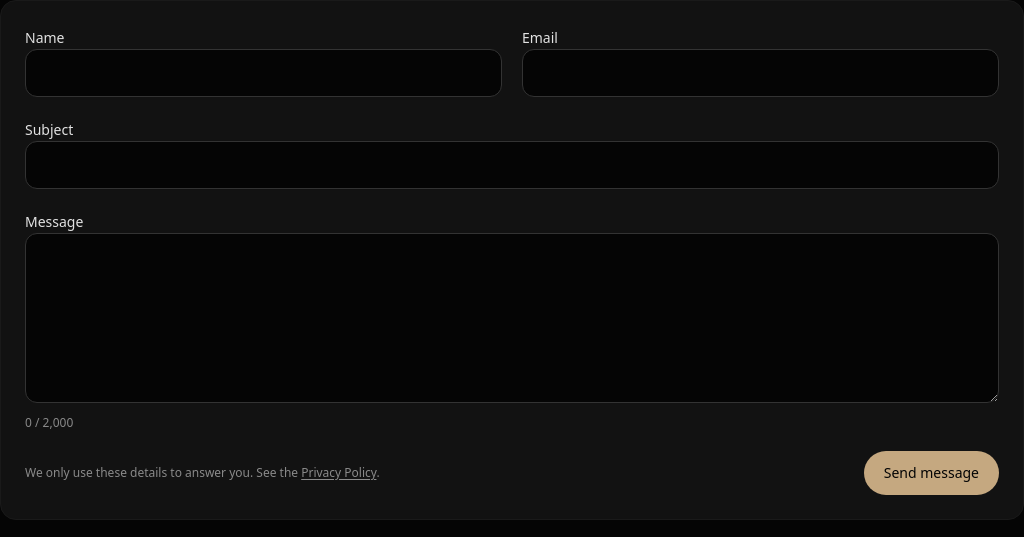
Test: ContactForm › sends a valid message and thanks the sender (CA03)
This screenshot has width=1024, height=537.
Type "Ana" into the field labelled "Name" at [264, 73], box 25,49 -> 502,97
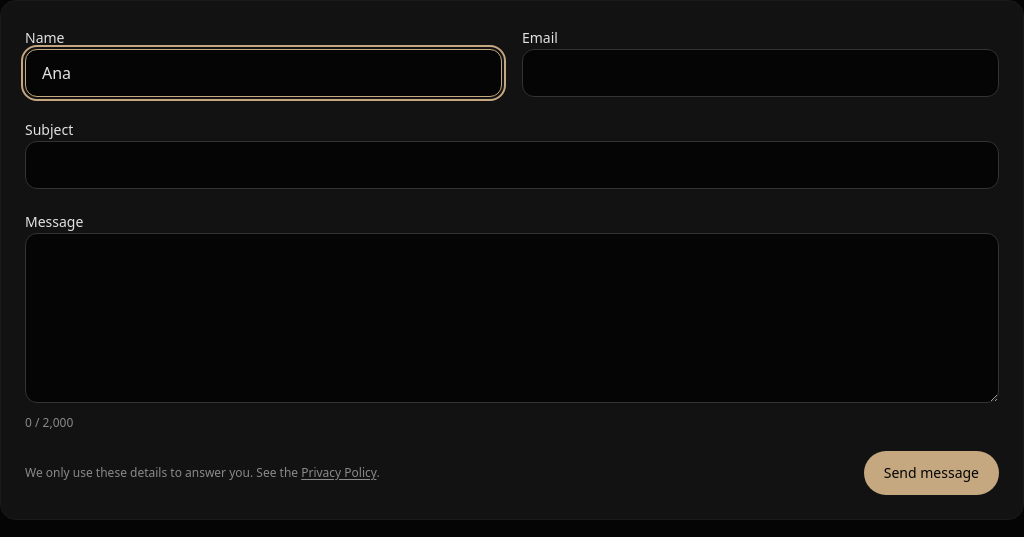
Type "ana@example.com" into the field labelled "Email" at [760, 73], box 522,49 -> 999,97
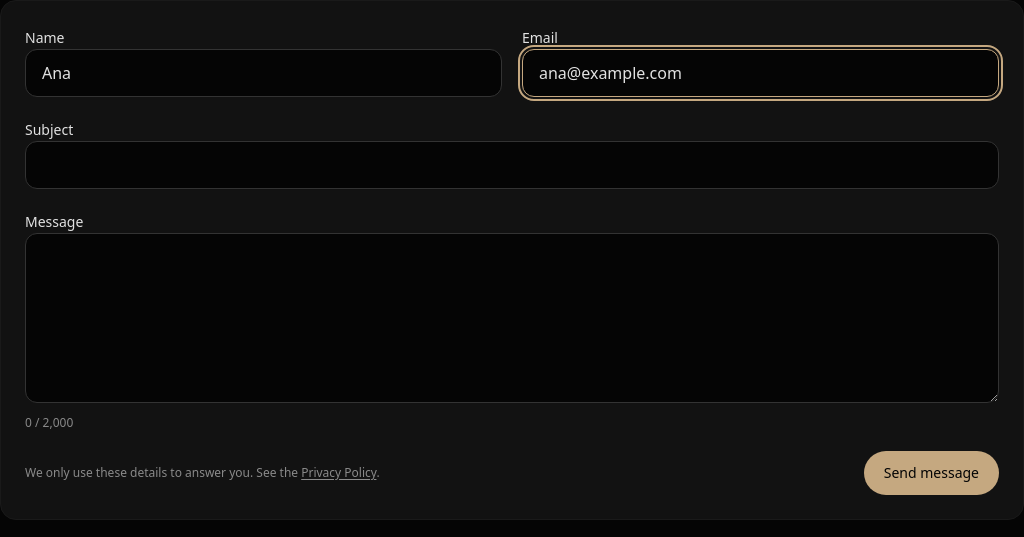
Type "Idea" into the field labelled "Subject" at [512, 165], box 25,141 -> 999,189
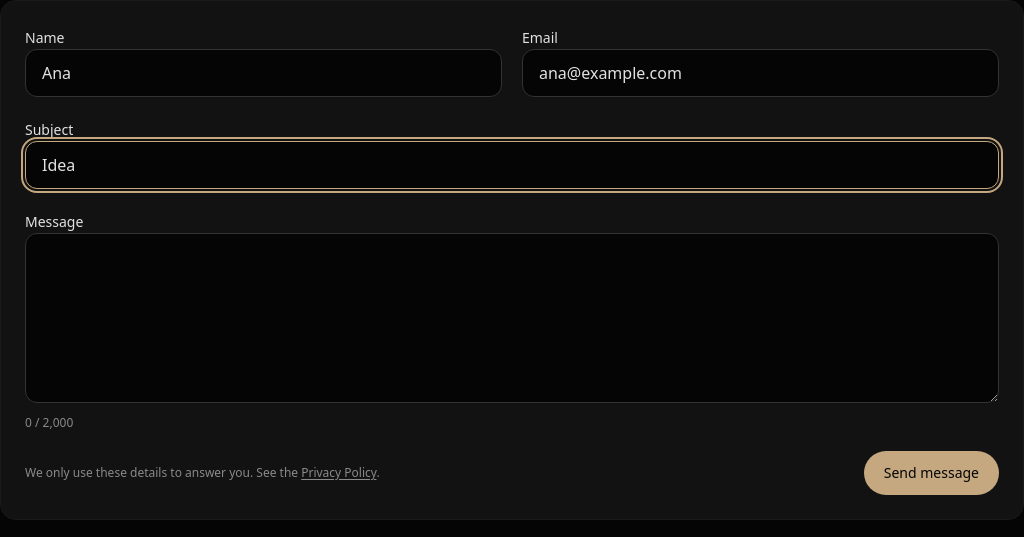
Type "A quiz about phrasal verbs, please!" into the text box labelled "Message" at [512, 318], box 25,233 -> 999,403
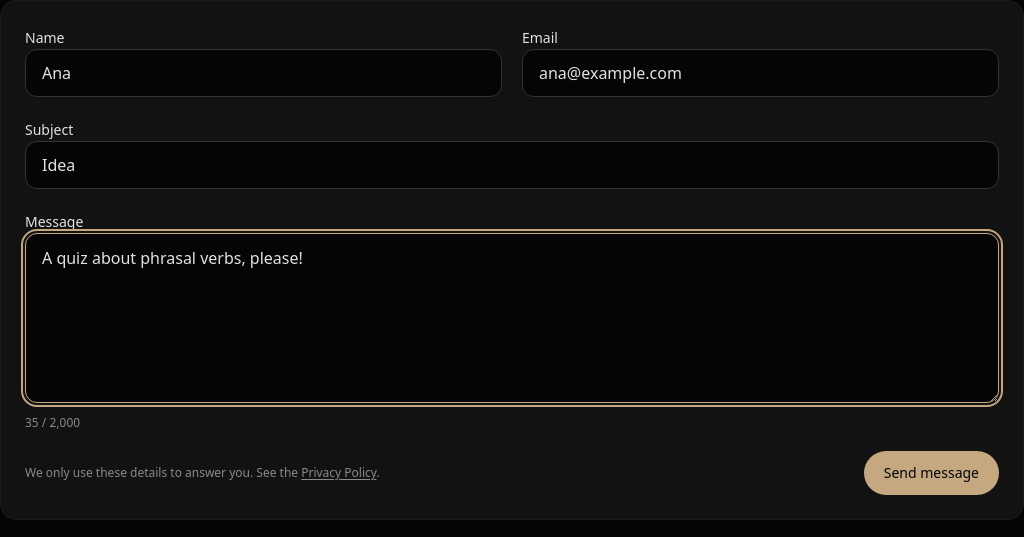
Click the button "Send message" at [931, 473], box 864,451 -> 999,495
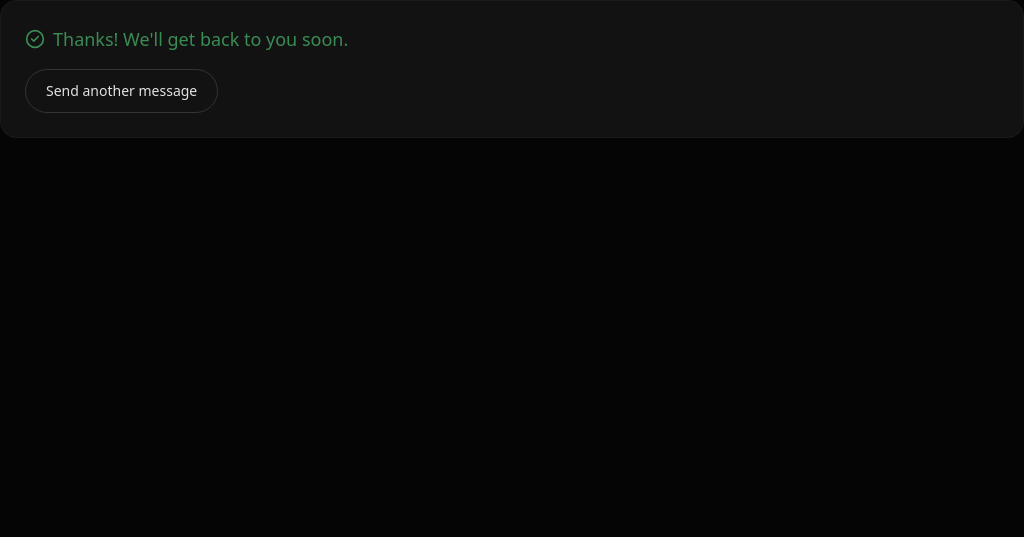
expect the message reads "Thanks! We'll get back to you soon.": met, box 53,27 -> 348,51
